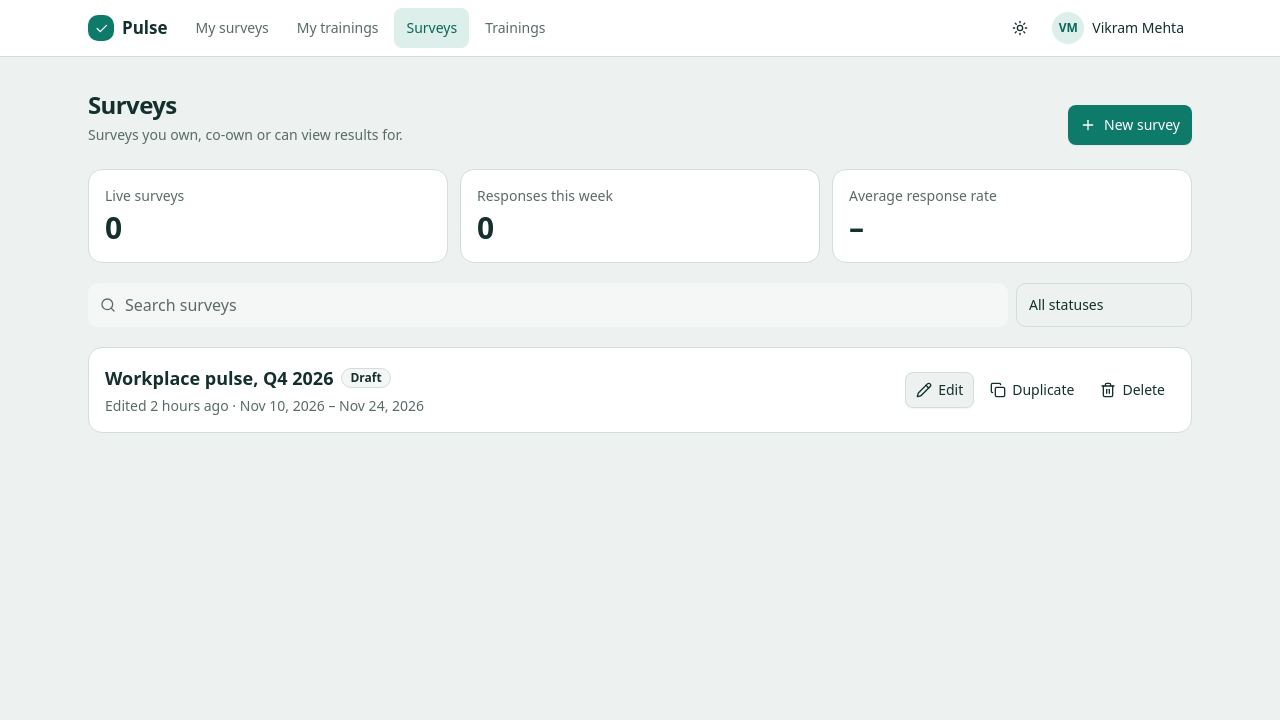
Scenario: Surveys home › duplicates a survey and opens the copy
Click the button with aria-label "Duplicate Workplace pulse, Q4 2026" at (1032, 390), box [980, 372, 1084, 408]
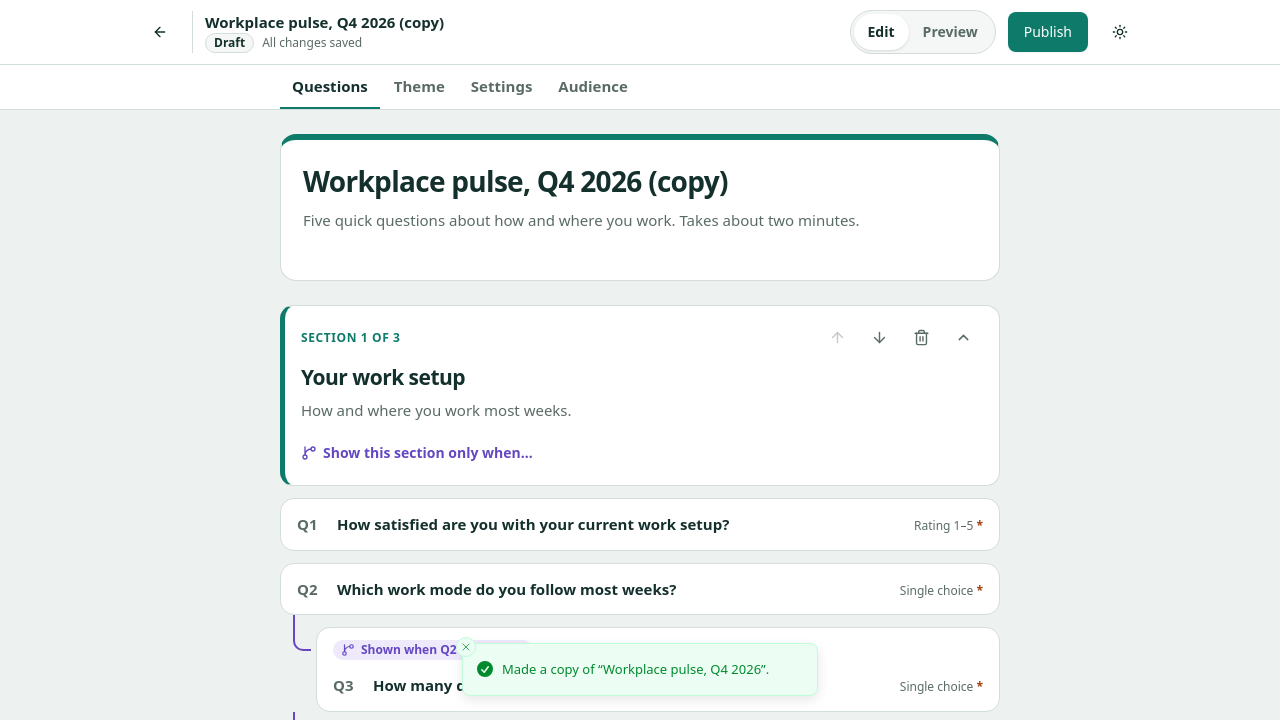
expect the text "Made a copy of “Workplace pulse, Q4 2026”." is shown: met, box [502, 660, 769, 679]
